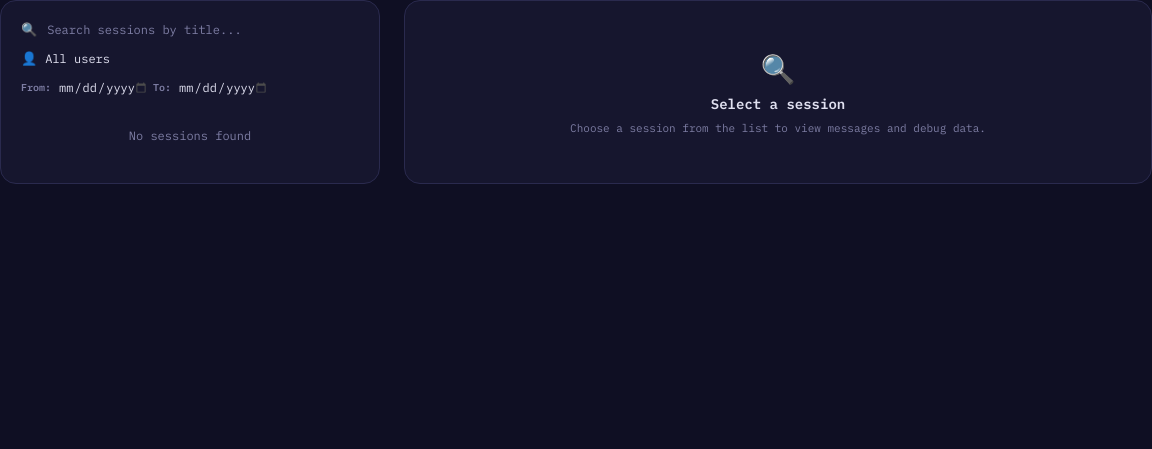
Test: SessionDebug › renders multi-query and hyde step data when present
Type "Technical" into the field with test id "session-debug-search" at (202, 30), box top-left (45, 21), bottom-right (359, 38)
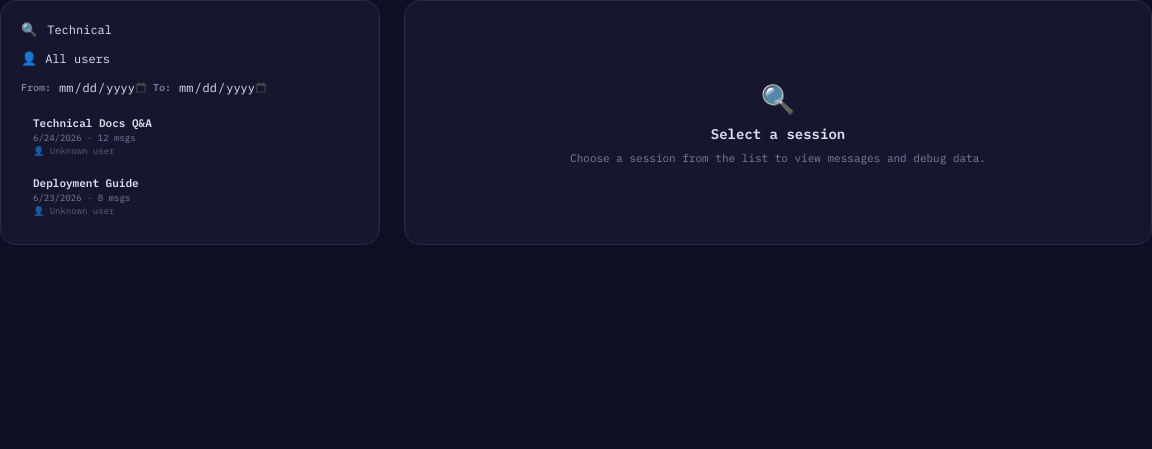
Click the element with test id "session-list-item" that starts with "Technical Docs Q&A" at (92, 136), box top-left (33, 116), bottom-right (152, 156)
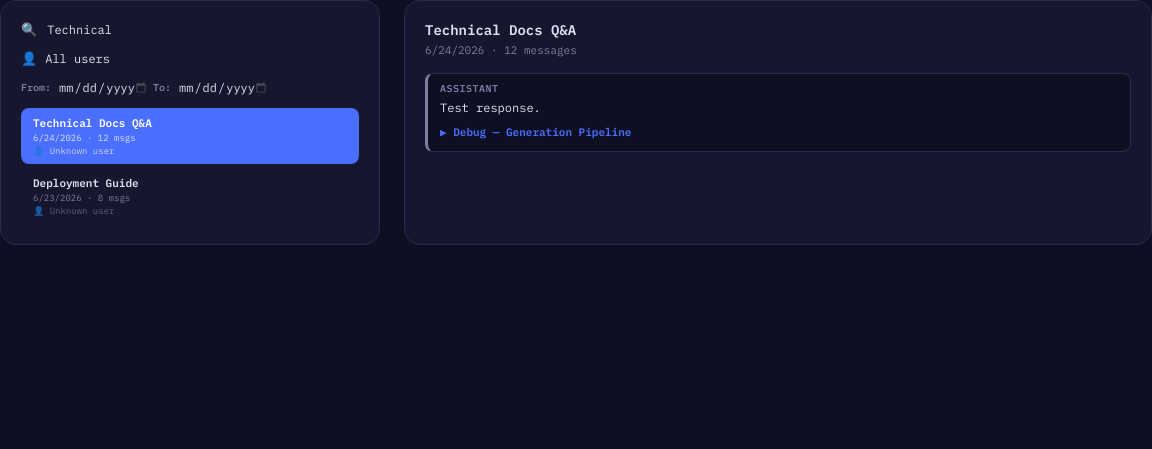
Click the button with test id "session-debug-toggle" at (536, 132), box top-left (440, 121), bottom-right (1118, 143)
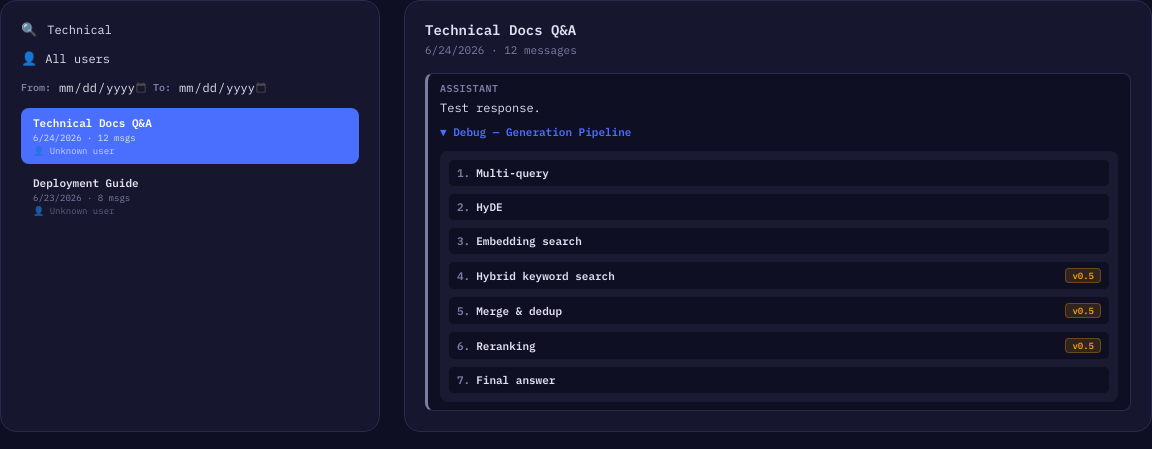
Check: the number of elements with test id "debug-step-future" is 3, box top-left (1065, 268), bottom-right (1101, 283); top-left (1065, 303), bottom-right (1101, 318); top-left (1065, 338), bottom-right (1101, 353)
